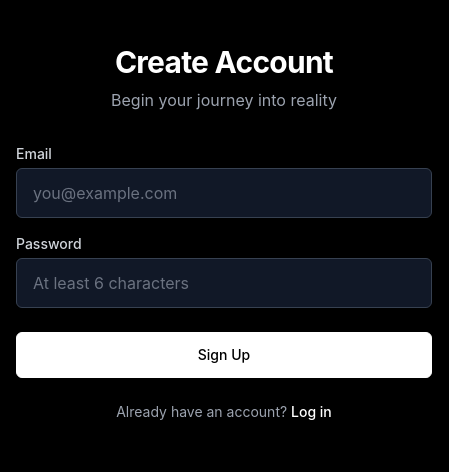
Test: SignupPage › shows error for duplicate email
Type "existing@example.com" into the field labelled "Email".
click(224, 193); type("existing@example.com")  # box left=16, top=168, right=432, bottom=218
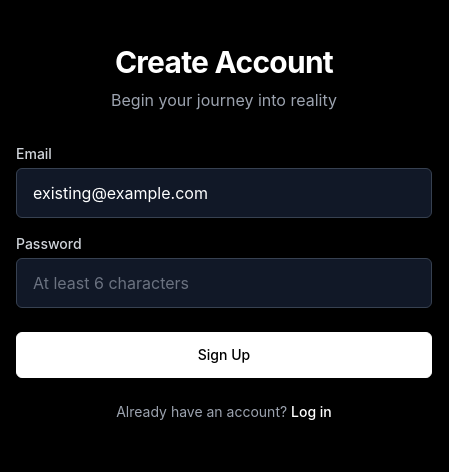
Type "password123" into the password field labelled "Password".
click(224, 283); type("password123")  # box left=16, top=258, right=432, bottom=308
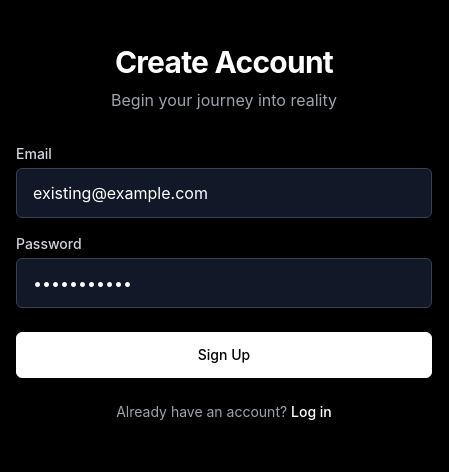
Click the button "Sign Up".
click(224, 355)  # box left=16, top=332, right=432, bottom=378
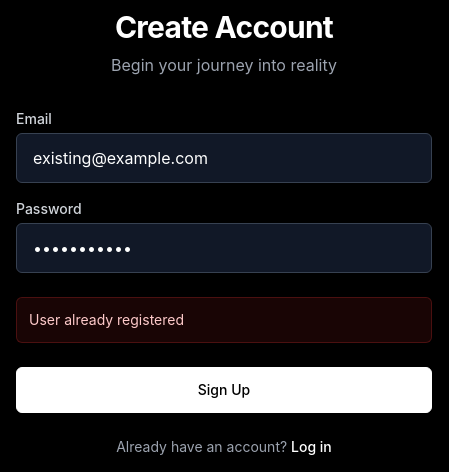
Expected: the text "User already registered" is shown, left=29, top=311, right=184, bottom=328
